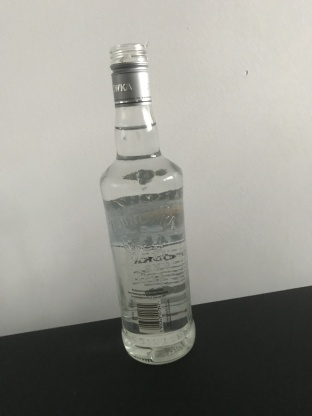nakretka: (108, 40, 153, 109)
